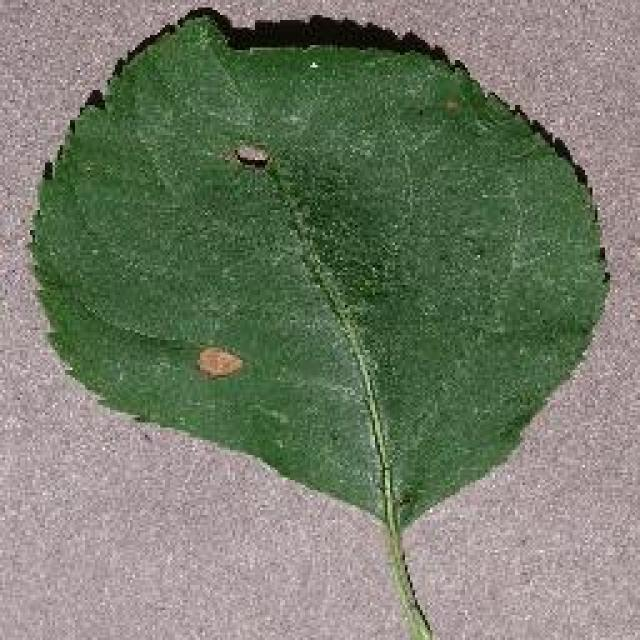Black_rot: (25, 5, 610, 637)
